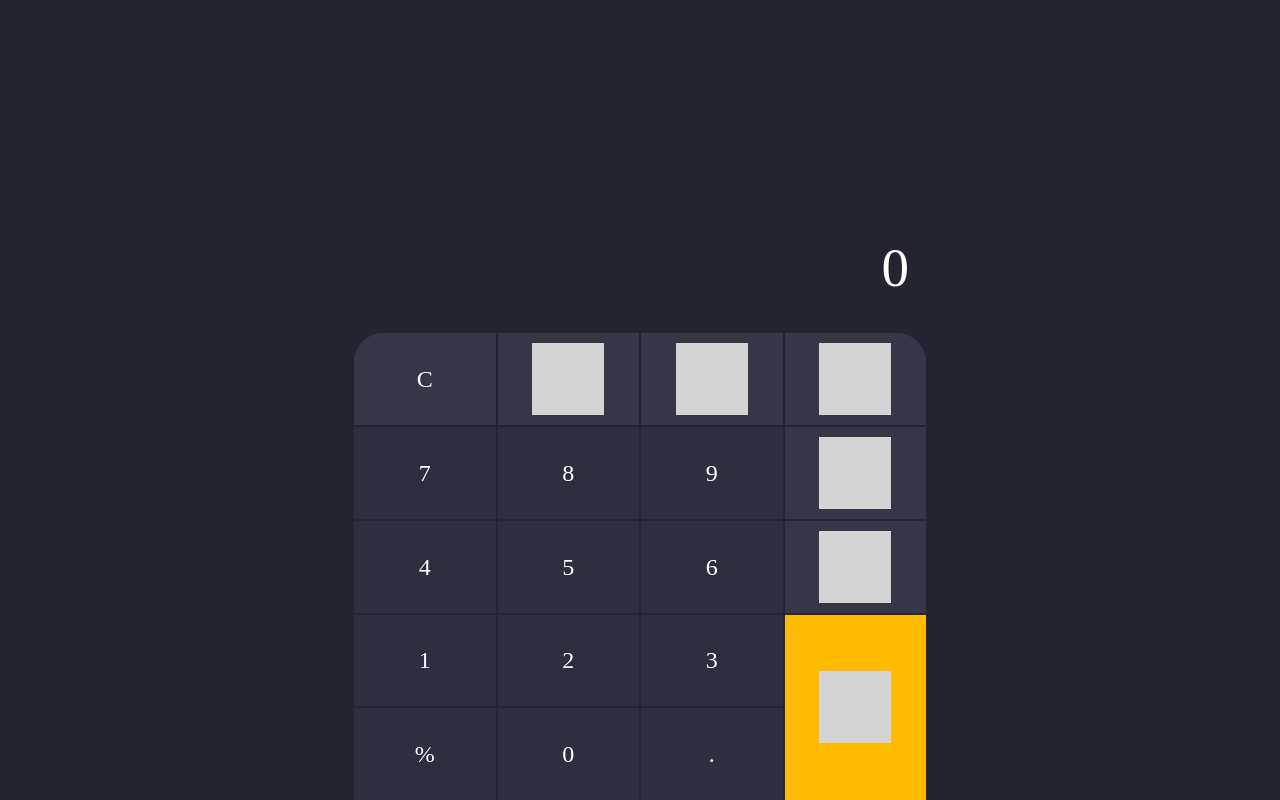
Calculator tests › Calculator logic '20 ÷ 4'
This screenshot has width=1280, height=800.
Click the button "2".
click(568, 660)  # box [496,614,640,707]
(page scrolled)
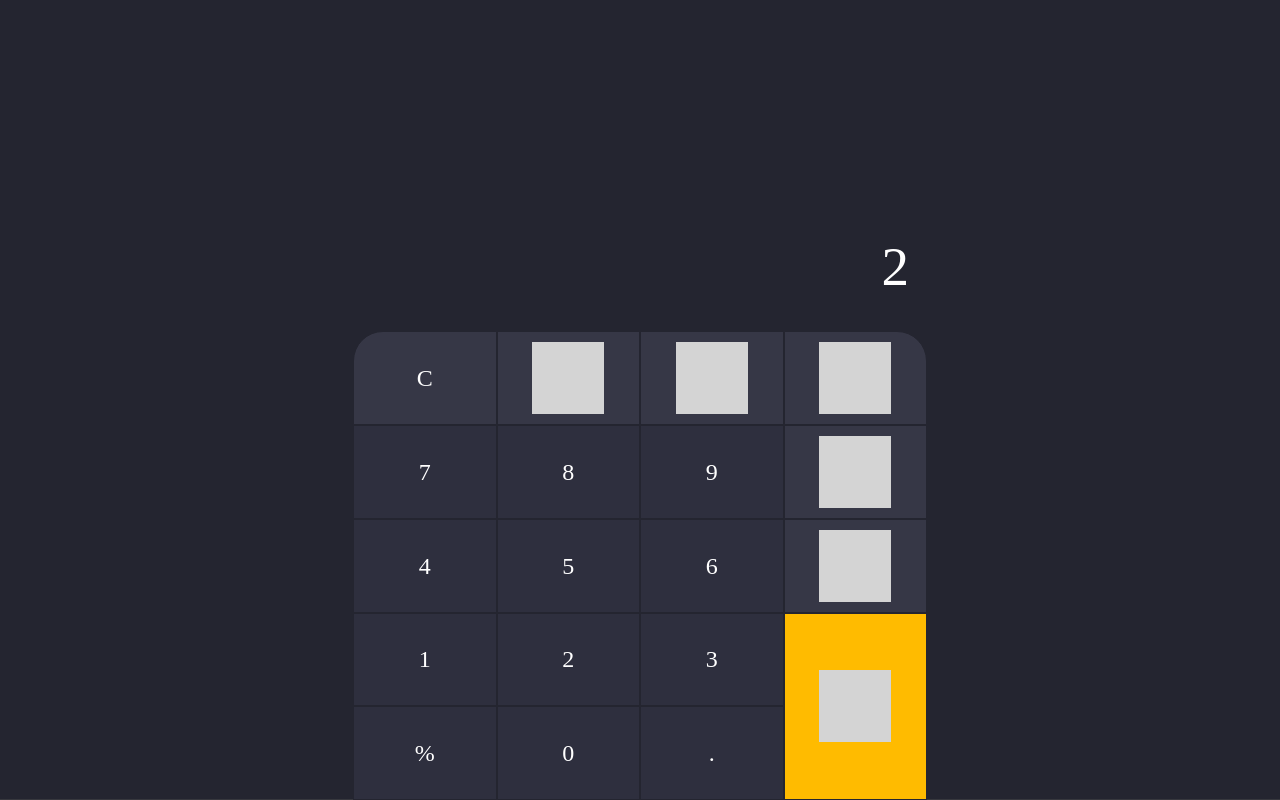
Click the button "0".
click(568, 753)  # box [496,706,640,799]
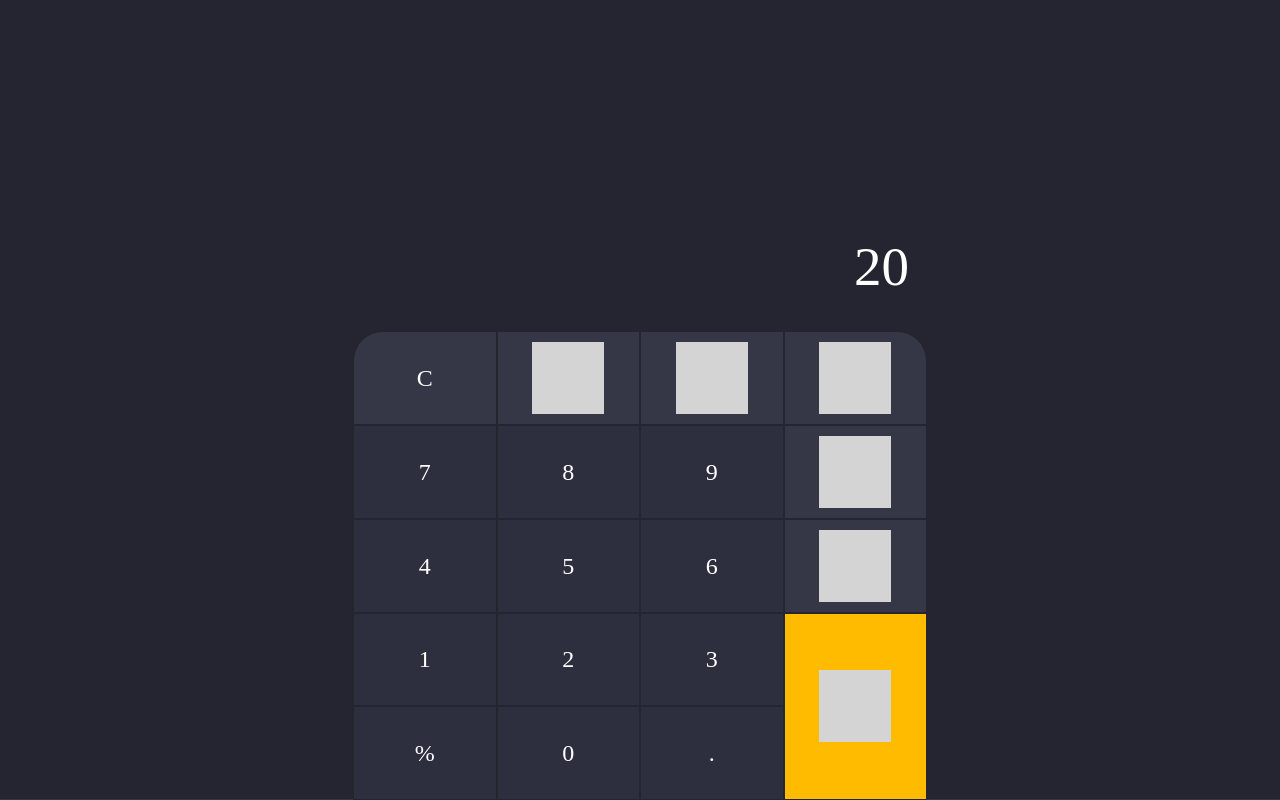
Click the 1st button with alt text "÷".
click(568, 378)  # box [496,331,640,425]
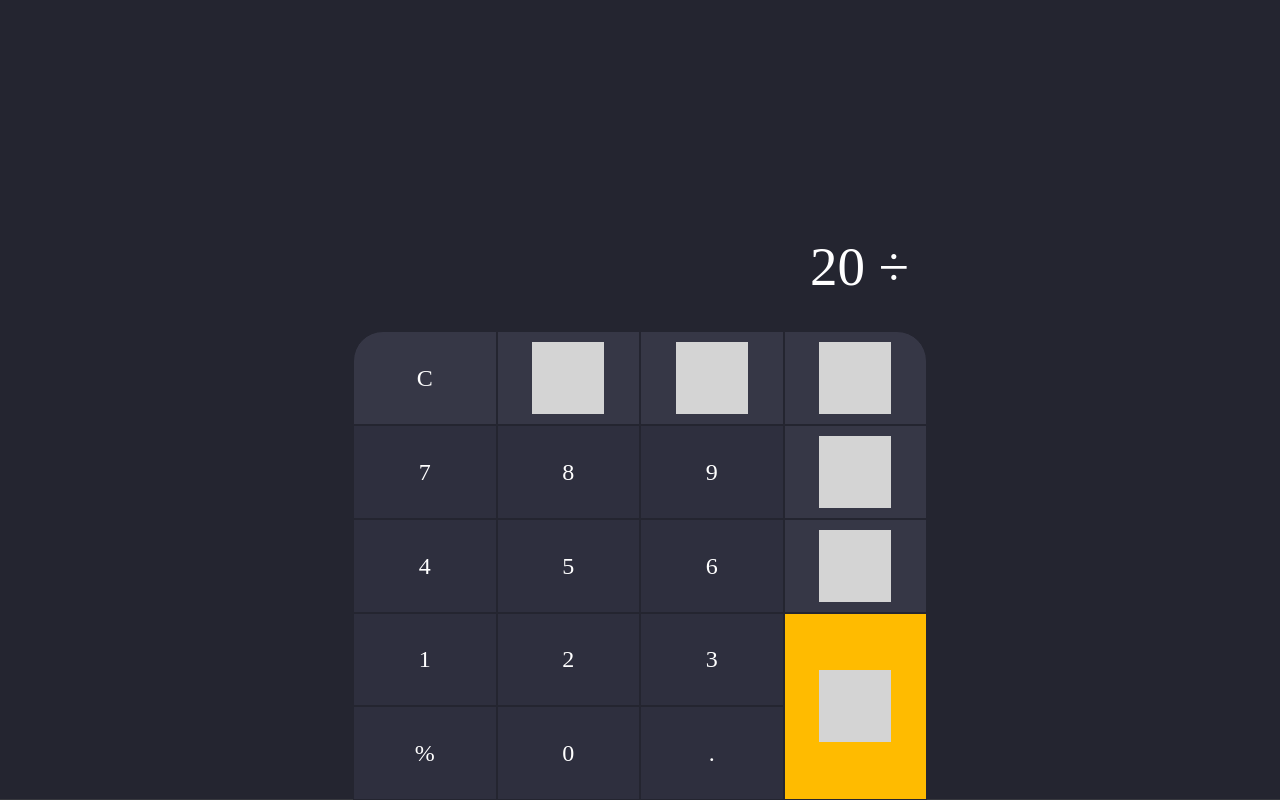
Click the button "4".
click(425, 566)  # box [353,519,496,613]
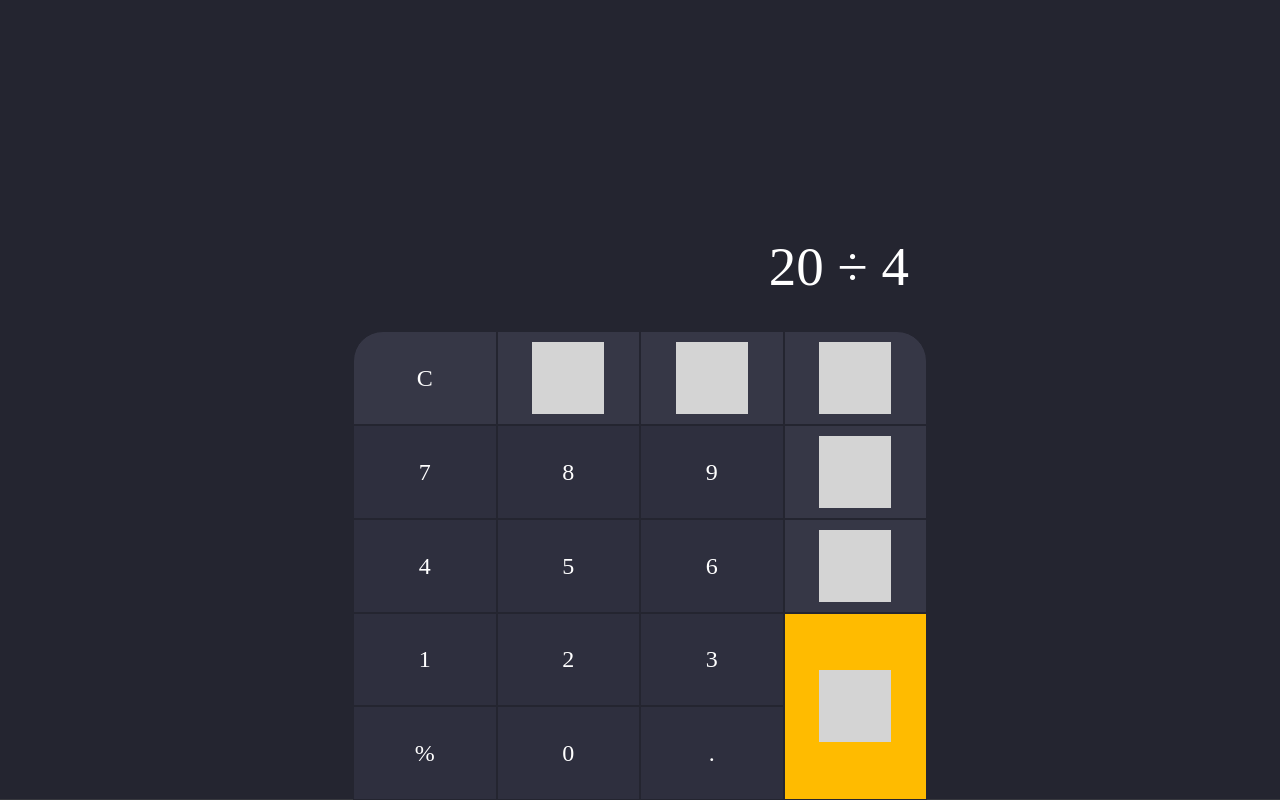
Click the 6th button with alt text "=".
click(855, 706)  # box [784,612,927,799]
(page scrolled)
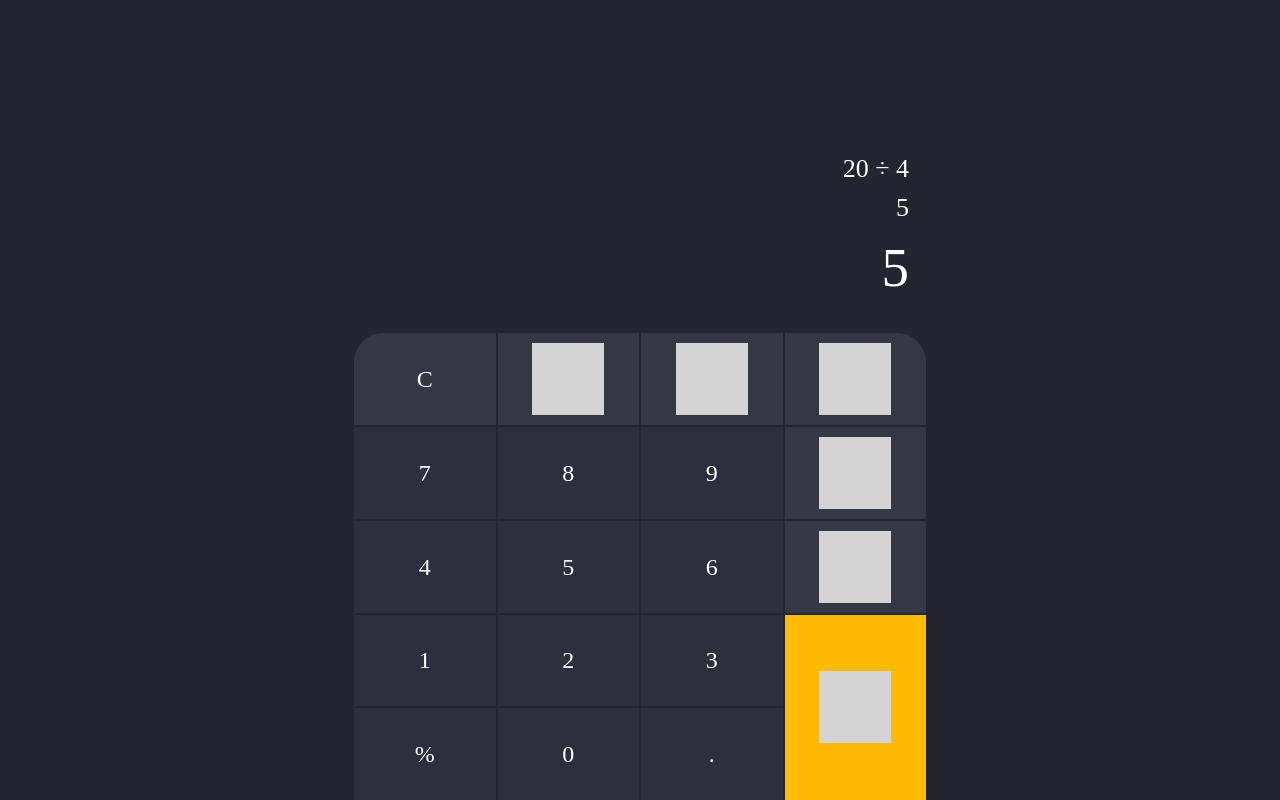
Now the text with test id "expression" reads "5", box [882,237,909,298]
Now the element with test id "history" reads "20 ÷ 4 5", box [843,154,909,222]
